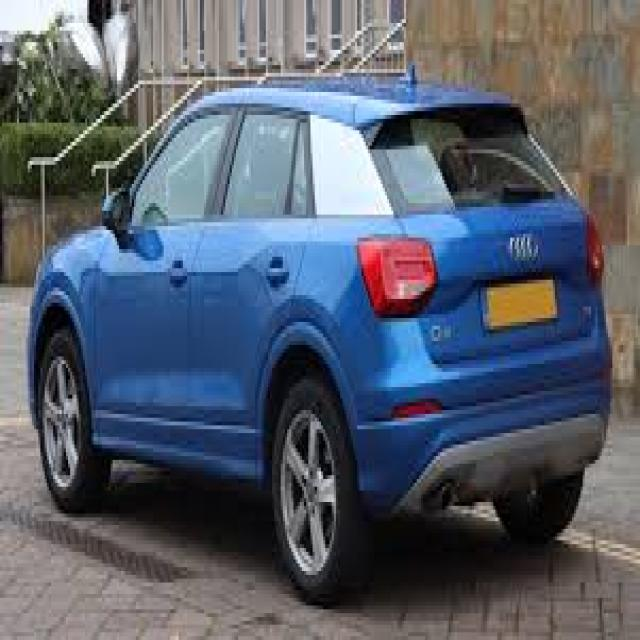SUV: (22, 72, 606, 602)
